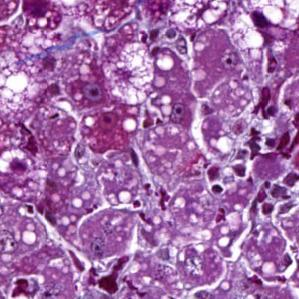ballooning: (6, 48, 53, 126), (106, 42, 155, 109), (2, 149, 38, 176)
